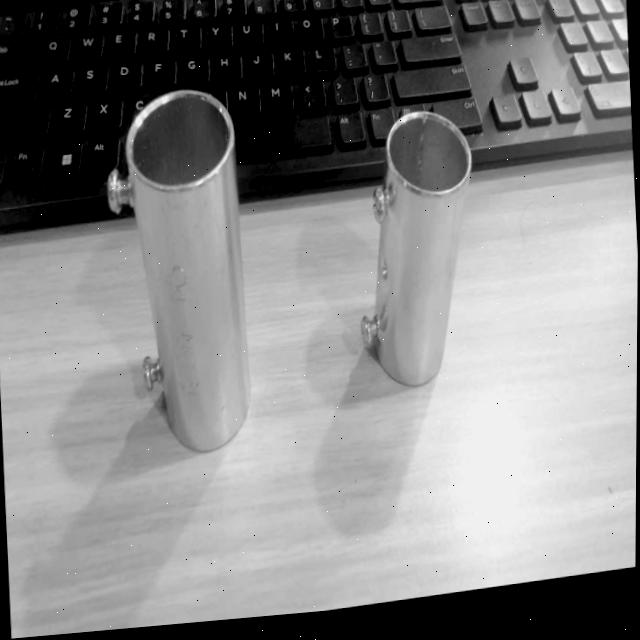Co_Lon: (100, 86, 256, 454)
Co_Nho: (347, 107, 478, 389)
